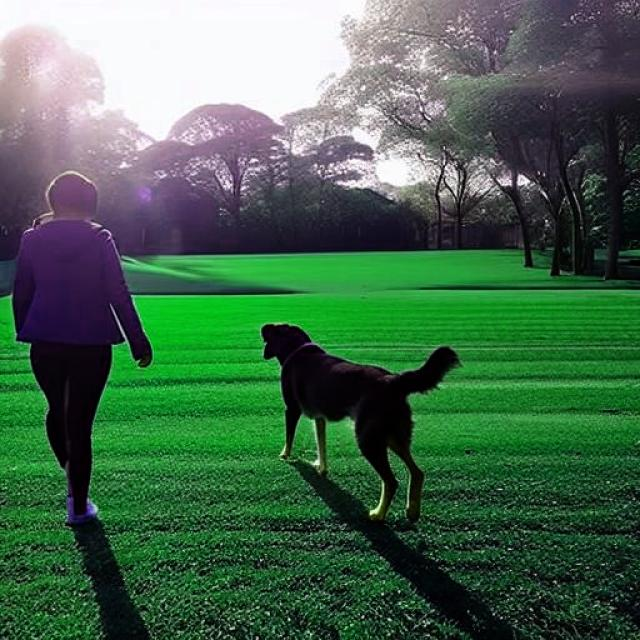Unleashed_Dog: (33, 294, 462, 523)
